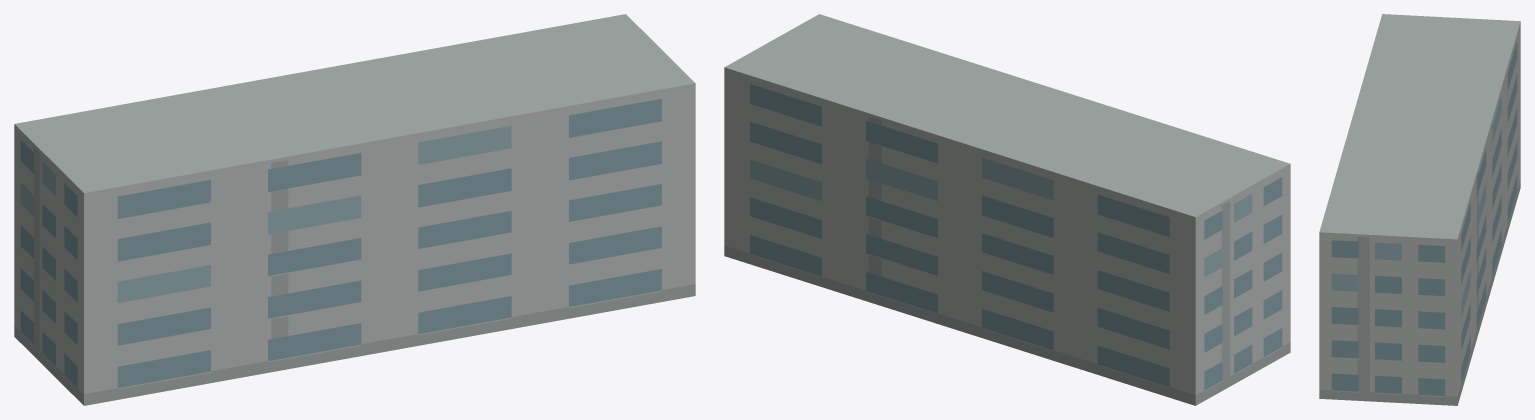
The model's file is residential-f3b018cd-f646-4472-a6f6-a7519d516b6f.glb.
The picture shows the model from 3 angles, left to right: view 1: azimuth 30°, elevation 25°; view 2: azimuth 150°, elevation 25°; view 3: azimuth 270°, elevation 25°; orthographic projection. The views are drawn at different scales.
Parts seen in each view (by area): view 1: residential-f3b018cd-f646-4472-a6f6-a7519d516b6f.tmp; view 2: residential-f3b018cd-f646-4472-a6f6-a7519d516b6f.tmp; view 3: residential-f3b018cd-f646-4472-a6f6-a7519d516b6f.tmp.
Boxes of the visible parts, left/top/right/bottom form: residential-f3b018cd-f646-4472-a6f6-a7519d516b6f.tmp: left=14, top=14, right=695, bottom=405; residential-f3b018cd-f646-4472-a6f6-a7519d516b6f.tmp: left=724, top=14, right=1290, bottom=405; residential-f3b018cd-f646-4472-a6f6-a7519d516b6f.tmp: left=1319, top=14, right=1520, bottom=405.
Size of the model in its own units: 44.27 by 15.25 by 16.72.
